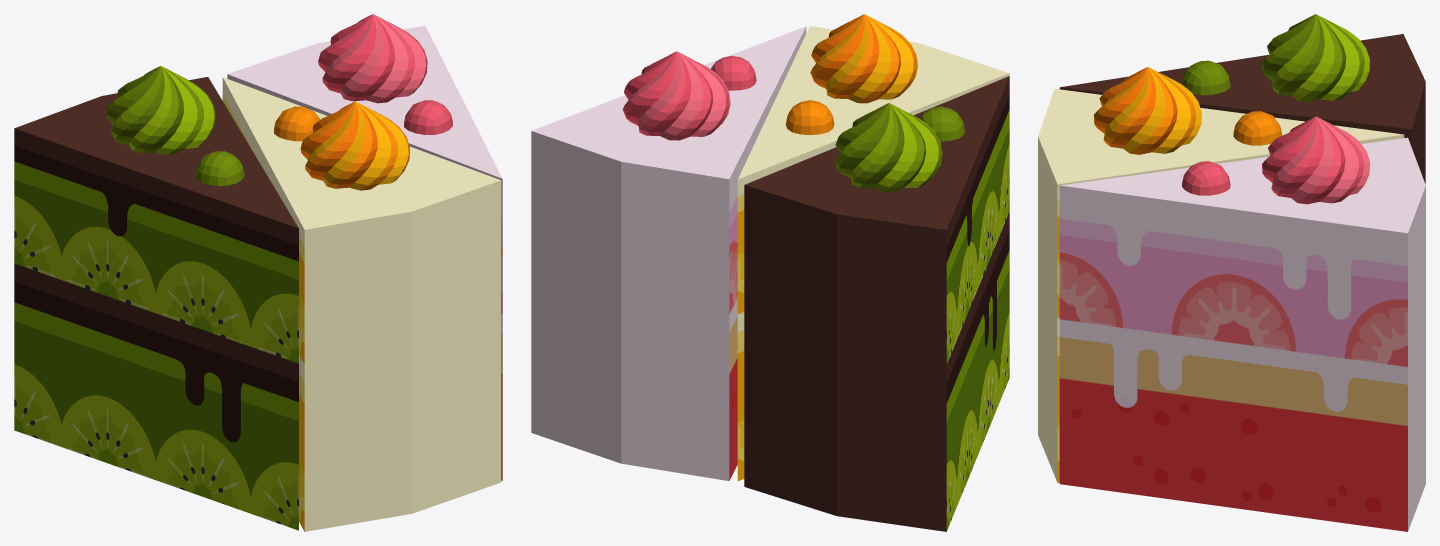
The model's file is cake3.fbx.
The picture shows the model from 3 angles, left to right: view 1: azimuth 30°, elevation 25°; view 2: azimuth 150°, elevation 25°; view 3: azimuth 270°, elevation 25°; orthographic projection.
Parts seen in each view (by area): view 1: Slice12, Slice11, Slice13; view 2: Slice12, Slice13, Slice11; view 3: Slice13, Slice11, Slice12.
Part boxes in pixels (x1=…): Slice12: x1=14, y1=66, x2=298, y2=530; Slice11: x1=222, y1=77, x2=501, y2=531; Slice13: x1=227, y1=14, x2=502, y2=480; Slice12: x1=744, y1=76, x2=1009, y2=531; Slice13: x1=531, y1=26, x2=806, y2=480; Slice11: x1=737, y1=14, x2=1009, y2=480; Slice13: x1=1059, y1=116, x2=1425, y2=531; Slice11: x1=1038, y1=67, x2=1404, y2=482; Slice12: x1=1059, y1=14, x2=1425, y2=183.
Size of the model in its own units: 25.78 by 22.17 by 21.19.
